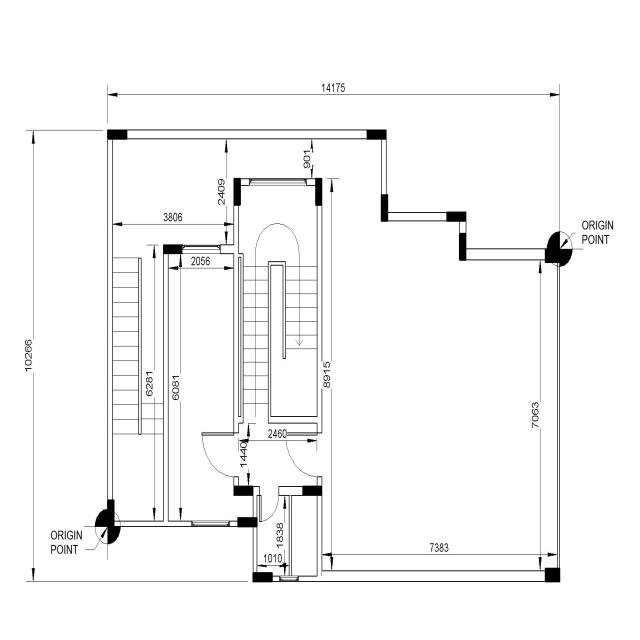Column: (544, 248, 560, 263), (107, 499, 115, 527), (233, 178, 241, 206), (107, 129, 127, 140), (366, 129, 386, 140), (446, 211, 466, 222), (545, 568, 560, 582), (252, 572, 273, 582), (237, 517, 258, 527), (234, 486, 254, 496), (302, 486, 322, 496), (381, 194, 388, 222), (459, 233, 466, 261), (315, 178, 322, 206), (163, 244, 182, 254)
Door: (201, 432, 239, 478), (286, 432, 322, 478), (257, 486, 279, 522)
Staircase: (243, 206, 317, 432), (113, 245, 163, 499)
Window: (249, 178, 307, 186), (182, 244, 220, 254), (191, 521, 230, 527), (279, 576, 299, 582)
